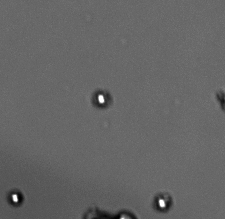Living Cell: (91, 89, 111, 108), (153, 194, 170, 212), (7, 189, 23, 206)
